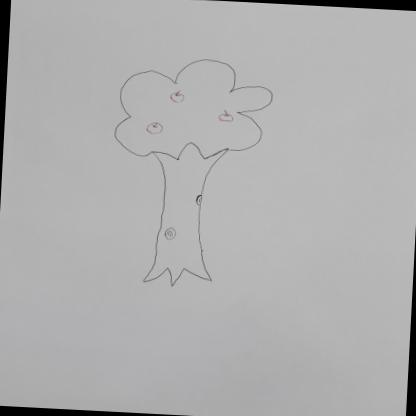apple: (142, 121, 166, 136), (218, 108, 236, 124), (168, 88, 184, 103)
branch_sharp: (146, 137, 232, 169)
crown_cloud: (108, 53, 276, 165)
knot: (160, 224, 178, 241), (190, 192, 207, 209)
root_only: (131, 259, 220, 291)
trunk_straight: (150, 177, 213, 252)
